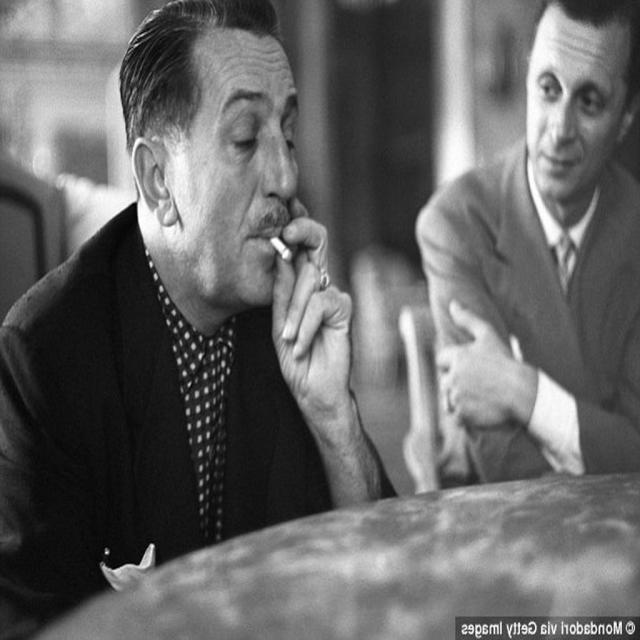smoking: (104, 10, 356, 418)
